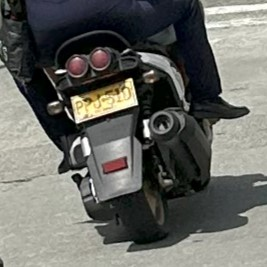number plate: (70, 78, 137, 123)
